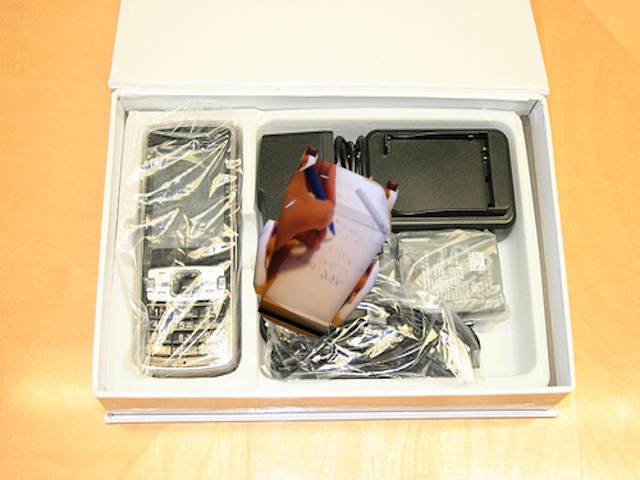back_pack: (240, 144, 401, 353)
